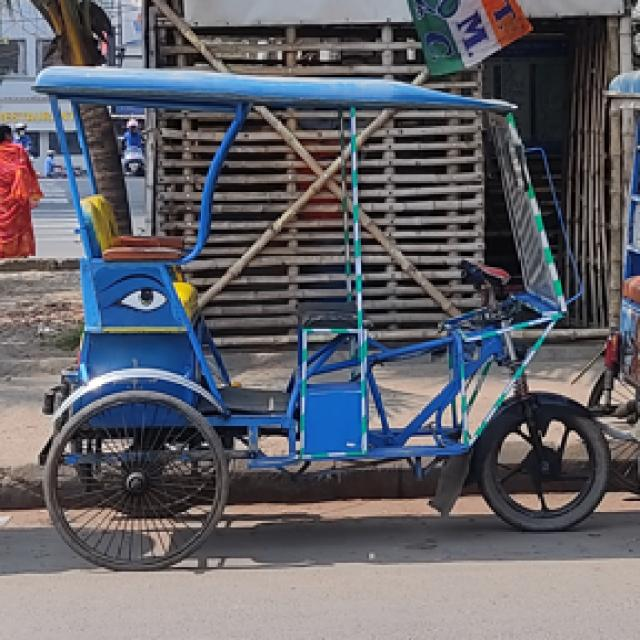rickshaw: (23, 50, 623, 581)
